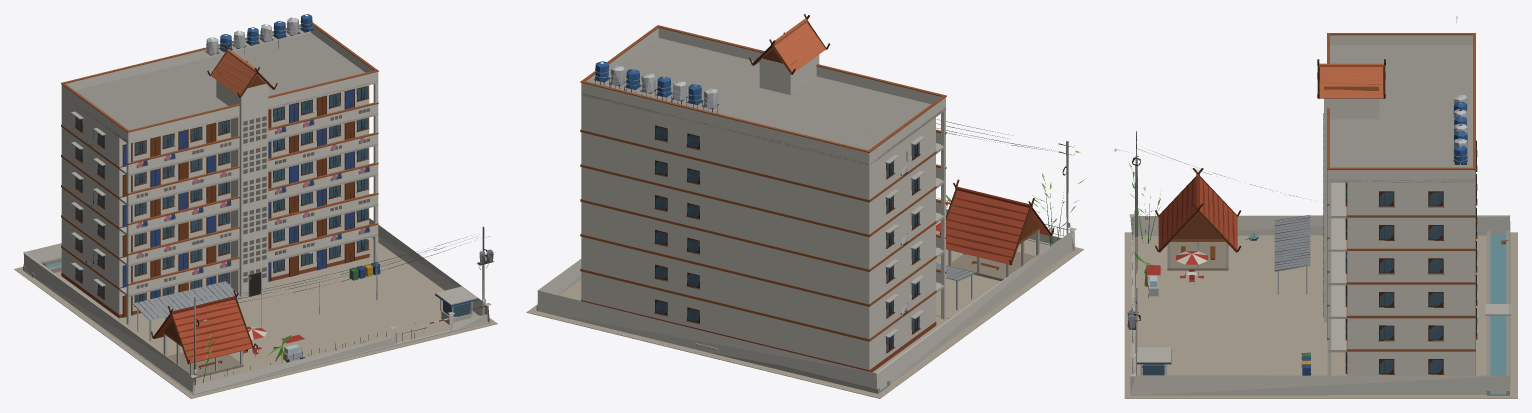
The model's file is home_5.glb.
The picture shows the model from 3 angles, left to right: view 1: azimuth 30°, elevation 25°; view 2: azimuth 150°, elevation 25°; view 3: azimuth 270°, elevation 25°; orthographic projection. The views are drawn at different scales.
Visible parts, largest first — view 1: body, windows; view 2: body, windows; view 3: body, windows.
Part boxes in pixels (left/top/right/bottom): body: left=14, top=14, right=497, bottom=398; windows: left=76, top=86, right=470, bottom=321; body: left=526, top=14, right=1084, bottom=398; windows: left=655, top=127, right=1079, bottom=351; body: left=1114, top=16, right=1517, bottom=398; windows: left=1114, top=150, right=1442, bottom=375.
Bounding box in the file's own units: 32.18 × 22.9 × 32.78.
